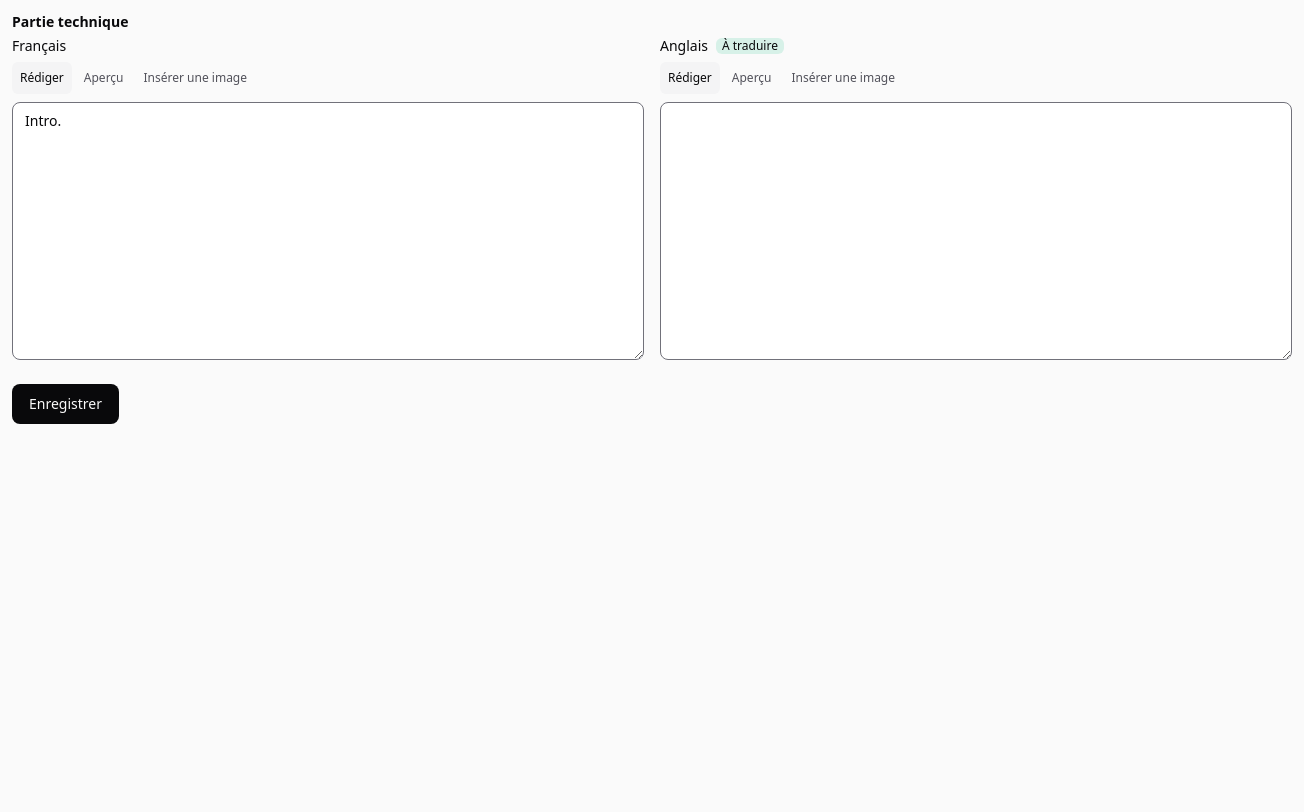
Test: inserting an image in Markdown › puts the chosen image where the caret is, with the field's language's text
Click the button named "Insérer une image français": (195, 78) [136, 62, 255, 94]
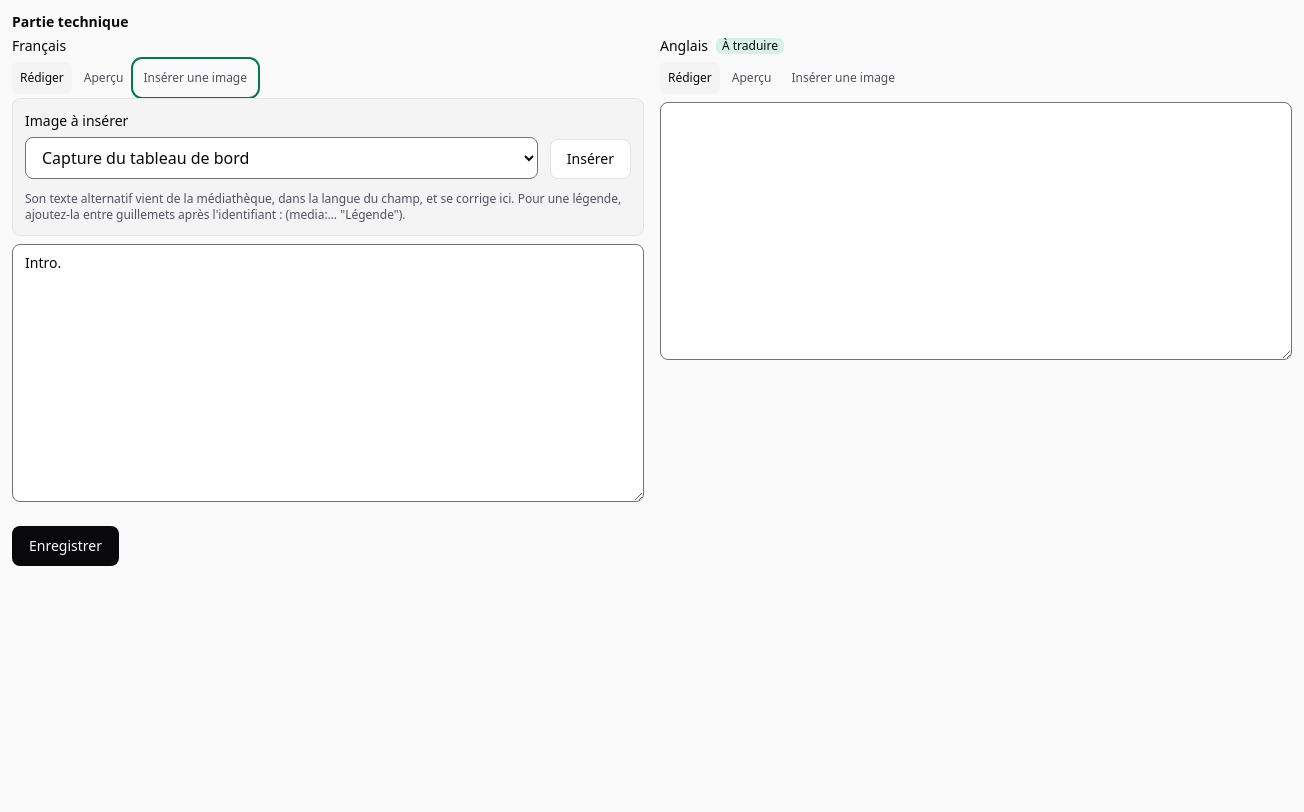
Select "Capture du tableau de bord" in the dropdown named "Image à insérer français": (281, 158) [25, 137, 538, 179]
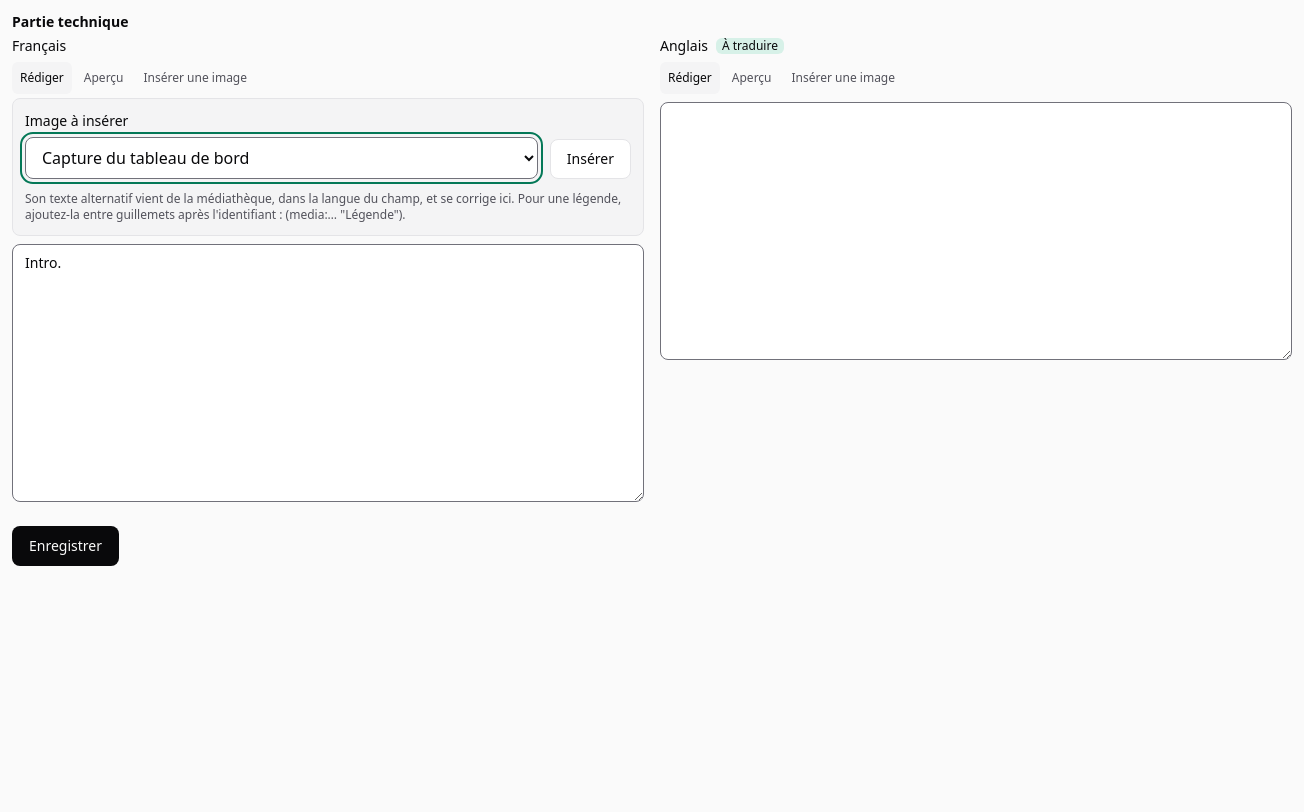
Click the button named "Insérer français": (590, 159) [550, 139, 631, 179]
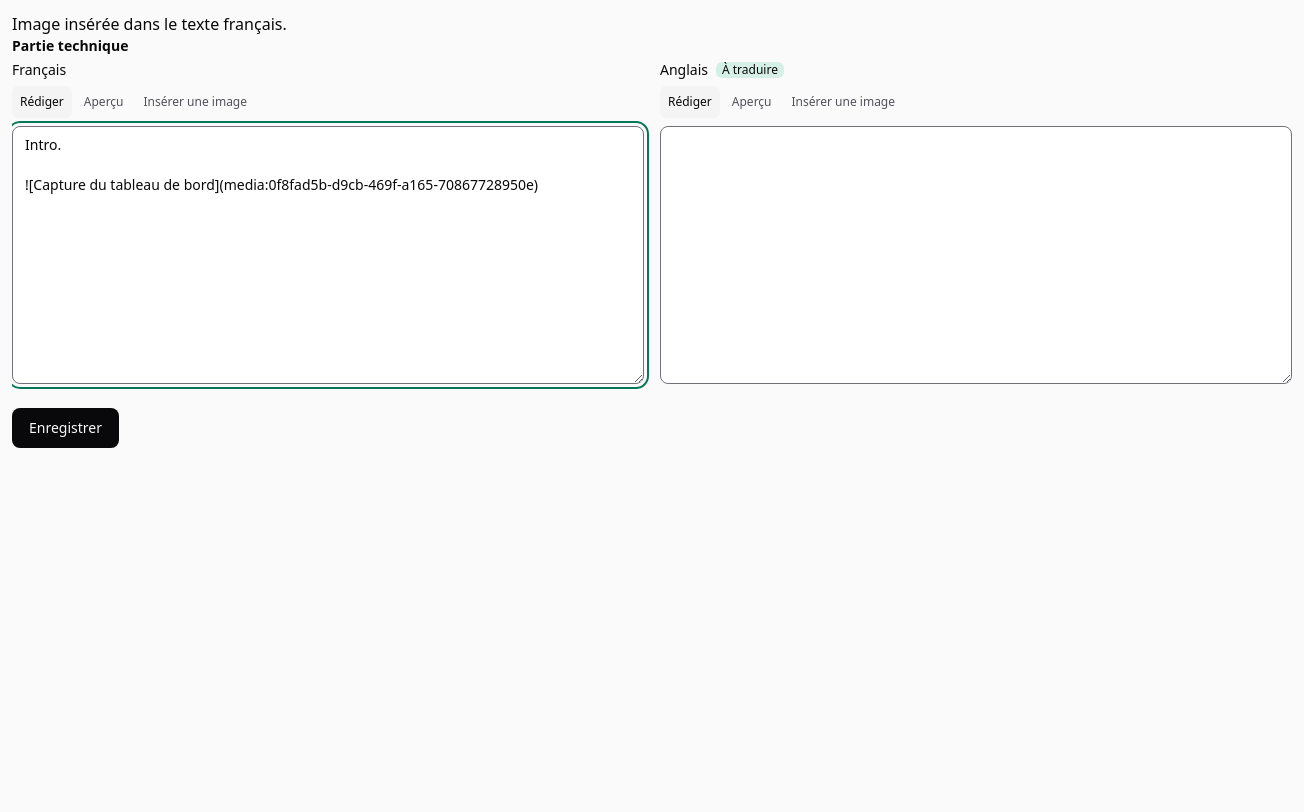
Expected: the button named "Insérer une image français" is collapsed, [136, 86, 255, 118]
Expected: the text "Image insérée dans le texte français." is shown, [12, 13, 287, 35]
